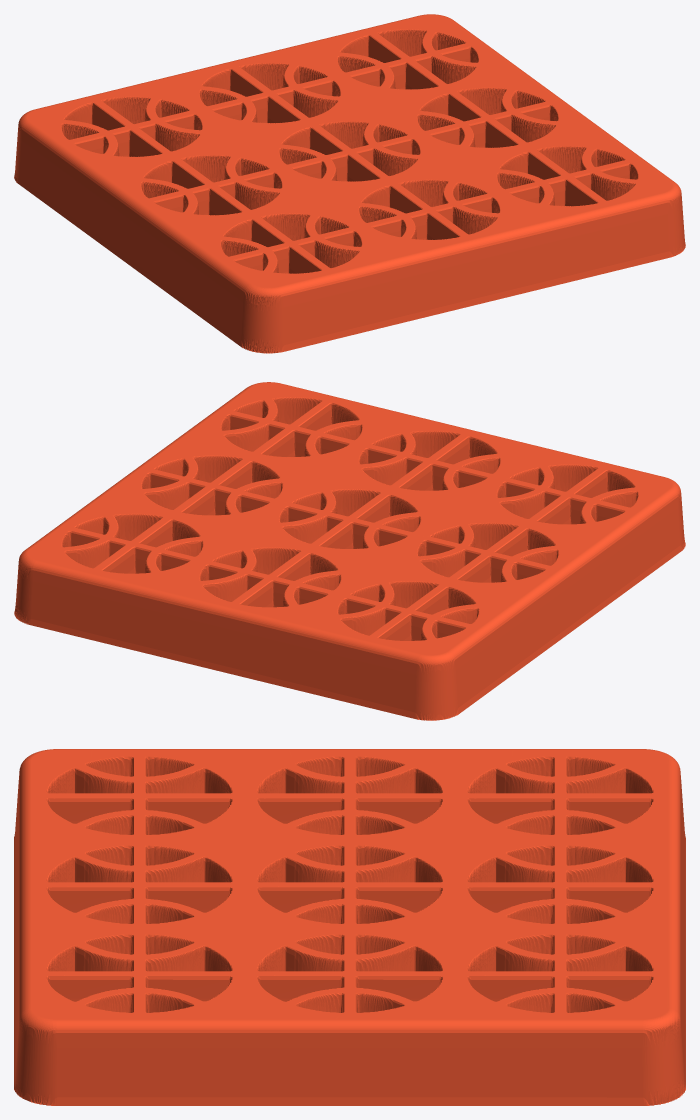
The model's file is mold.glb.
The picture shows the model from 3 angles, top to bottom: view 1: azimuth 30°, elevation 25°; view 2: azimuth 150°, elevation 25°; view 3: azimuth 270°, elevation 25°; orthographic projection. The views are drawn at different scales.
Parts seen in each view (by area): view 1: geometry_0; view 2: geometry_0; view 3: geometry_0.
Part boxes in pixels (x1,y1,x2,y2): geometry_0: (14,14,685,353); geometry_0: (14,382,685,720); geometry_0: (14,749,685,1105).
Size of the model in its own units: 0.1402 by 0.0182 by 0.1402.
